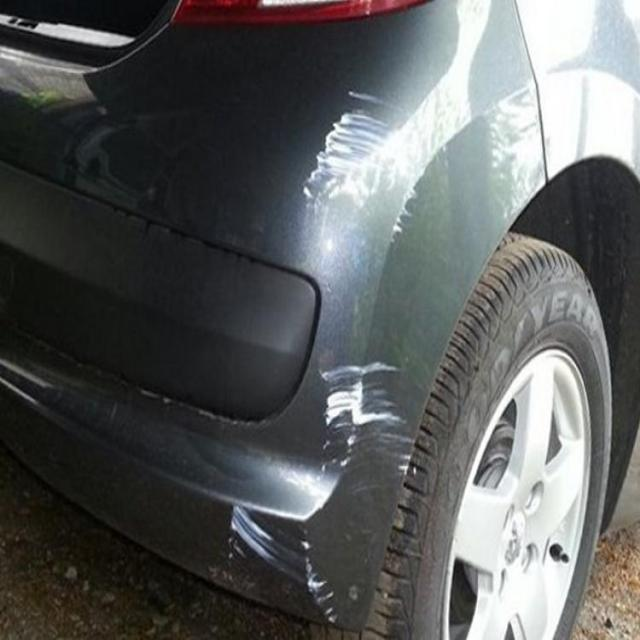scratch: (274, 342, 429, 640), (291, 71, 430, 262)
